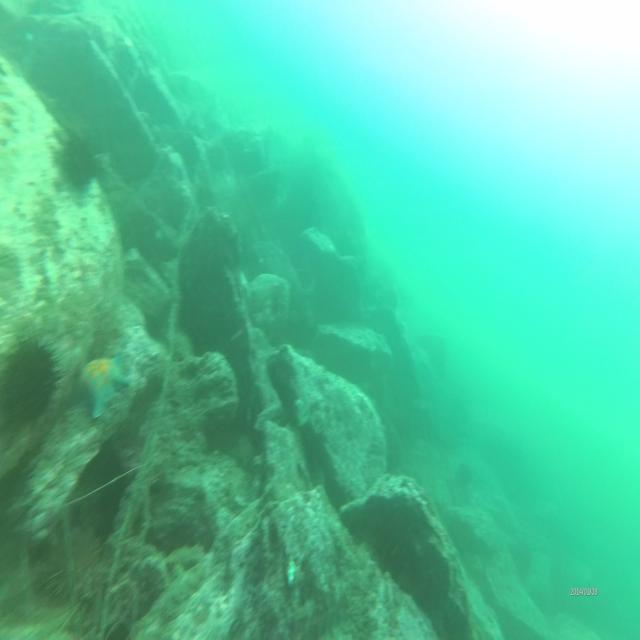echinus: (0, 329, 66, 426), (53, 117, 99, 196), (455, 457, 475, 494)
starfish: (78, 353, 130, 417)
